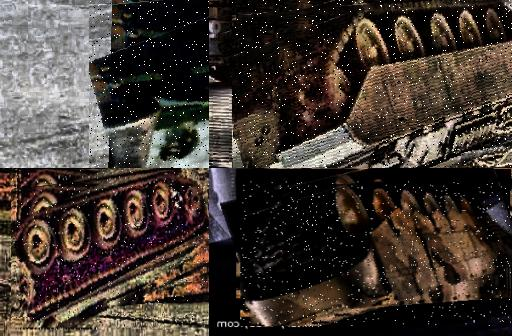tanks: (233, 1, 512, 169), (241, 183, 511, 327), (13, 172, 209, 327), (90, 29, 210, 169)
